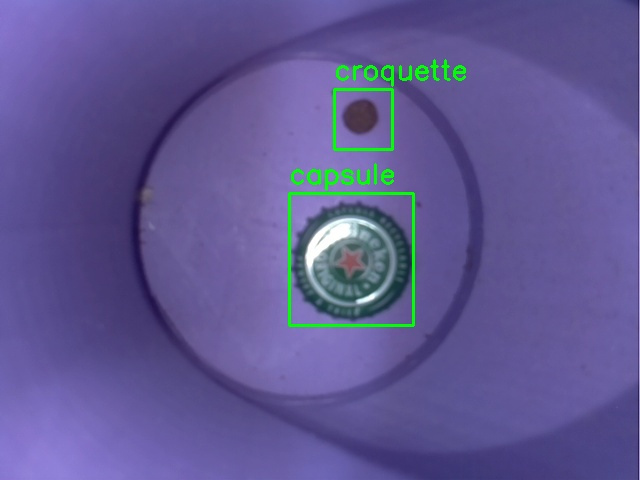capsule: (289, 193, 413, 325)
croquette: (334, 89, 392, 149)
